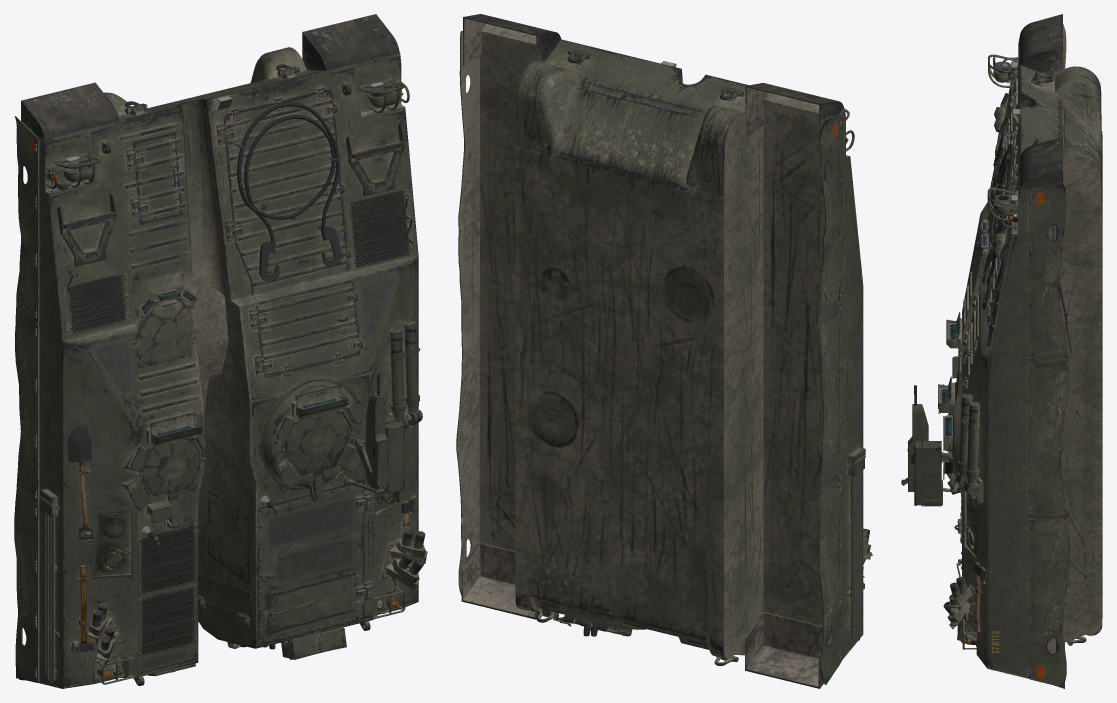
File: Hull.glb
3 renders of one model, left to right at view 1: azimuth 30°, elevation 25°; view 2: azimuth 150°, elevation 25°; view 3: azimuth 270°, elevation 25°, orthographic. The views are drawn at different scales.
Visible parts, largest first — view 1: set_0_group_0; view 2: set_0_group_0; view 3: set_0_group_0.
Part boxes in pixels (bbox=[...]): set_0_group_0: bbox=[14, 14, 427, 688]; set_0_group_0: bbox=[456, 14, 872, 688]; set_0_group_0: bbox=[901, 14, 1102, 688].
Bounding box in the file's own units: 3.39 × 5.13 × 1.79.
1 material, 1 textured.
